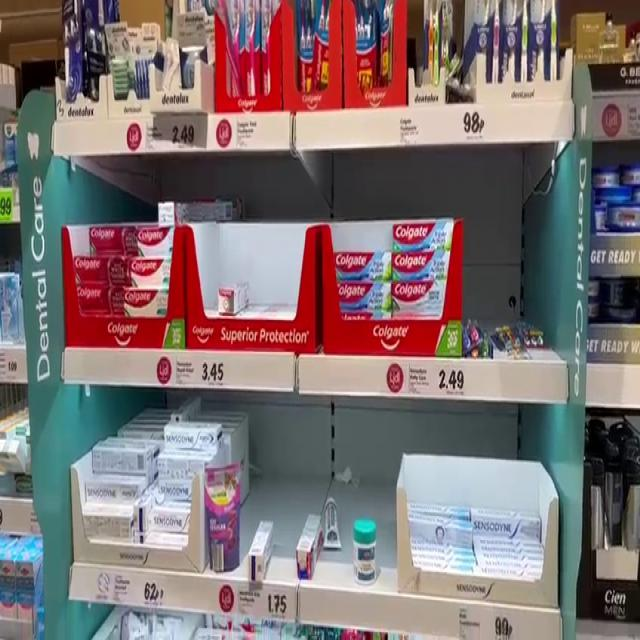Other: (103, 25, 137, 110), (351, 515, 379, 590), (321, 496, 340, 559)
Toothpaste: (401, 501, 478, 553), (391, 213, 458, 256), (78, 502, 143, 546), (325, 275, 396, 315), (470, 504, 544, 541), (390, 282, 455, 322), (387, 247, 456, 284), (328, 249, 395, 286), (241, 518, 276, 587), (120, 283, 176, 326), (72, 281, 125, 326), (91, 440, 157, 474), (295, 513, 325, 584), (123, 256, 176, 296), (71, 251, 127, 288), (154, 454, 213, 489), (125, 224, 180, 259), (163, 423, 224, 454), (83, 477, 145, 507), (86, 221, 130, 259), (154, 477, 205, 509), (216, 276, 253, 318), (147, 512, 203, 538)
